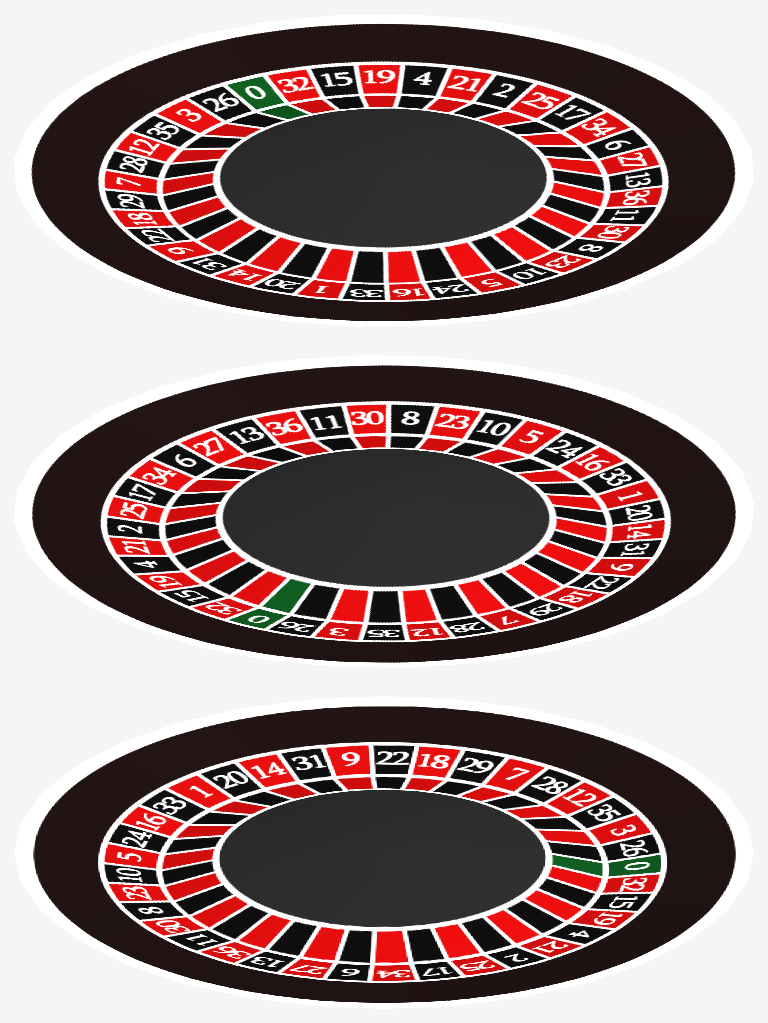
The model's file is roulette_wheel_numbers.glb.
3 renders of one model, top to bottom at view 1: azimuth 30°, elevation 25°; view 2: azimuth 150°, elevation 25°; view 3: azimuth 270°, elevation 25°, orthographic.
Parts seen in each view (by area): view 1: Wheel Numbers Baked; view 2: Wheel Numbers Baked; view 3: Wheel Numbers Baked.
Boxes of the visible parts, <box> form: Wheel Numbers Baked: <box>14,14,753,326</box>; Wheel Numbers Baked: <box>14,355,753,667</box>; Wheel Numbers Baked: <box>14,696,753,1008</box>.
Size of the model in its own units: 1.02 by 0.054 by 1.02.
1 material, 1 textured.
